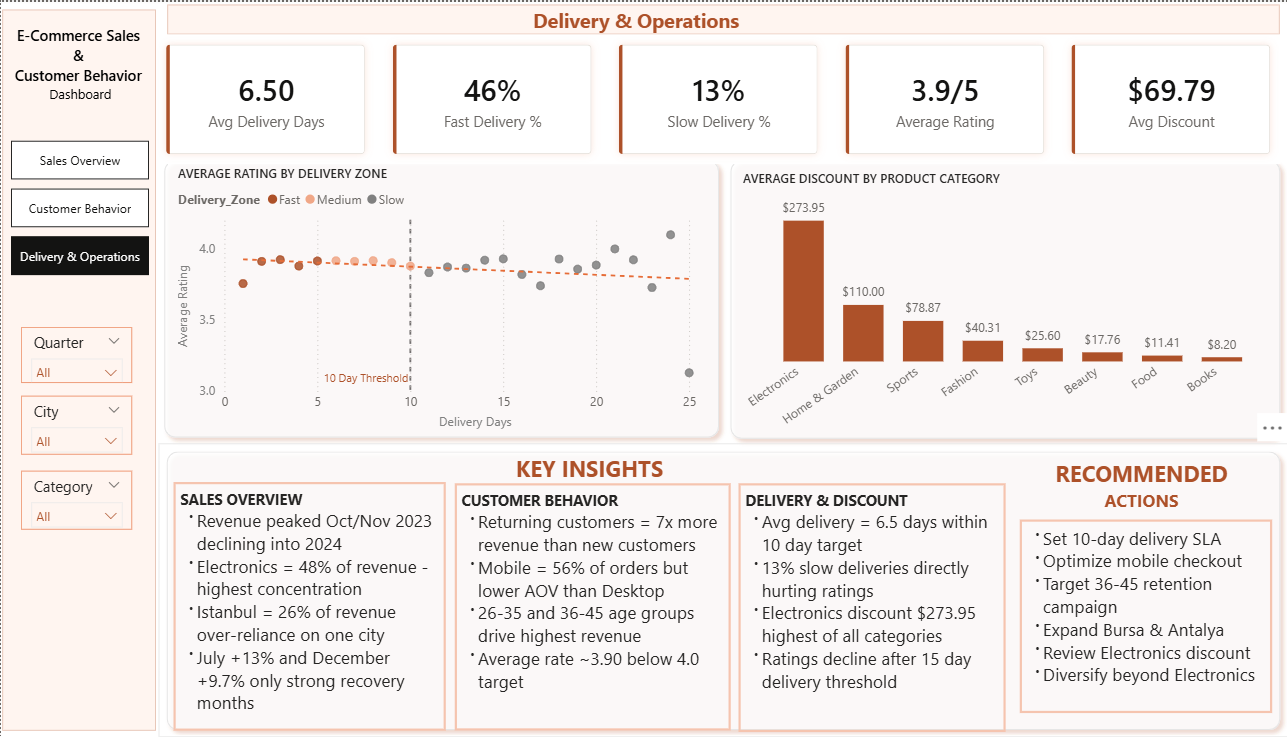

What the dashboard file says about the page in this screenshot:
{"tool":"powerbi","page":{"name":"Delivery & Operations","canvas":[1400,800],"ordinal":2},"visuals":[{"type":"shape","box":[1.4,8.2,167.1,784],"z":0},{"type":"shape","box":[784.5,163.3,615.5,320.7],"z":1000},{"type":"textbox","box":[1.4,20.4,169.8,130.4],"z":2000},{"type":"clusteredColumnChart","title":"AVERAGE DISCOUNT BY PRODUCT CATEGORY","fields":{"Category":["ecommerce_customer_behavior_dataset.Product_Category"],"Y":["Avg(ecommerce_customer_behavior_dataset.Discount_Amount)"]},"box":[802.2,182.3,580.2,294.8],"z":3000},{"type":"shape","box":[168.5,163,620.9,319.3],"z":4000},{"type":"pageNavigator","box":[10.9,150.8,150.8,148.1],"z":5000},{"type":"slicer","fields":{"Values":["date_table.Quarter"]},"box":[21.7,353.3,120.9,61.1],"z":6000},{"type":"slicer","fields":{"Values":["ecommerce_customer_behavior_dataset.City"]},"box":[21.7,428,120.9,63.9],"z":7000},{"type":"slicer","fields":{"Values":["ecommerce_customer_behavior_dataset.Product_Category"]},"box":[21.7,509.5,120.9,63.9],"z":8000},{"type":"shape","box":[180.7,2.7,1209.2,32.6],"z":9000},{"type":"textbox","box":[573.4,0,562.5,50.3],"z":10000},{"type":"scatterChart","title":"AVERAGE RATING BY DELIVERY ZONE","fields":{"Series":["ecommerce_customer_behavior_dataset.Delivery_Zone"],"Y":["Avg(ecommerce_customer_behavior_dataset.Customer_Rating)"],"X":["ecommerce_customer_behavior_dataset.Delivery_Time_Days"]},"box":[187.5,176.6,614.1,292.1],"z":11000},{"type":"cardVisual","fields":{"Data":["ecommerce_customer_behavior_dataset.Avg Delivery Days","ecommerce_customer_behavior_dataset.On Time Delivery %","ecommerce_customer_behavior_dataset.Slow Delivery %","ecommerce_customer_behavior_dataset.Average Rating","Avg(ecommerce_customer_behavior_dataset.Discount_Amount)"]},"box":[167.9,35.6,1226,141.2],"z":12000},{"type":"shape","box":[171.2,479.6,1228.3,320.7],"z":13000},{"type":"textbox","box":[187.5,486.4,904.9,46.2],"z":14000},{"type":"textbox","box":[187.5,521.7,296.2,270.4],"z":15000},{"type":"textbox","box":[493.2,523.1,300,269],"z":16000},{"type":"textbox","box":[801.6,523.1,290.8,270.4],"z":17000},{"type":"textbox","box":[1107.3,562.5,274.5,210.6],"z":18000},{"type":"textbox","box":[1097.8,491.9,284,82.9],"z":19000}]}

Visuals, with their boxes on the page's 1400x800 design canvas (x1, y1, x2, y2). These are canvas units, not pixel positions in the 1287x737 screenshot, which may show the page scaled, cropped or inside an application window:
shape: l=1, t=8, r=168, b=792
shape: l=784, t=163, r=1400, b=484
textbox: l=1, t=20, r=171, b=151
"AVERAGE DISCOUNT BY PRODUCT CATEGORY" clusteredColumnChart: l=802, t=182, r=1382, b=477
shape: l=168, t=163, r=789, b=482
pageNavigator: l=11, t=151, r=162, b=299
slicer - date_table.Quarter: l=22, t=353, r=143, b=414
slicer - ecommerce_customer_behavior_dataset.City: l=22, t=428, r=143, b=492
slicer - ecommerce_customer_behavior_dataset.Product_Category: l=22, t=510, r=143, b=573
shape: l=181, t=3, r=1390, b=35
textbox: l=573, t=0, r=1136, b=50
"AVERAGE RATING BY DELIVERY ZONE" scatterChart: l=188, t=177, r=802, b=469
cardVisual - ecommerce_customer_behavior_dataset.Avg Delivery Days x ecommerce_customer_behavior_dataset.On Time Delivery %: l=168, t=36, r=1394, b=177
shape: l=171, t=480, r=1400, b=800
textbox: l=188, t=486, r=1092, b=533
textbox: l=188, t=522, r=484, b=792
textbox: l=493, t=523, r=793, b=792
textbox: l=802, t=523, r=1092, b=794
textbox: l=1107, t=562, r=1382, b=773
textbox: l=1098, t=492, r=1382, b=575
